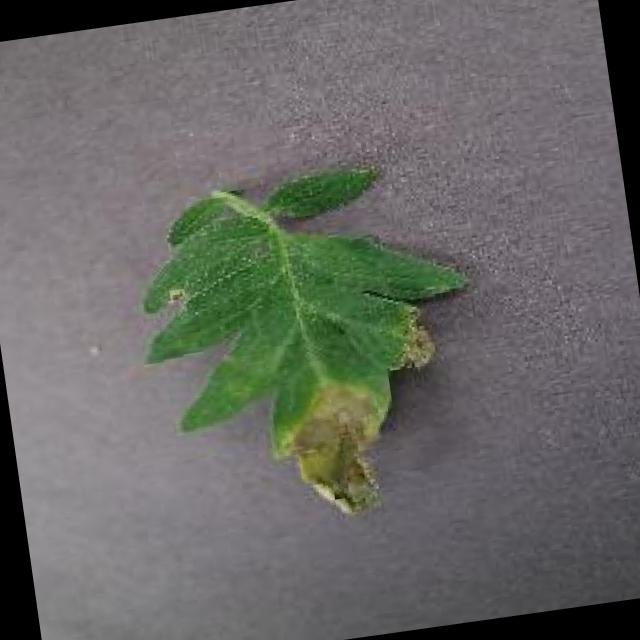Tomato_Late_Blight: (254, 314, 461, 528)
